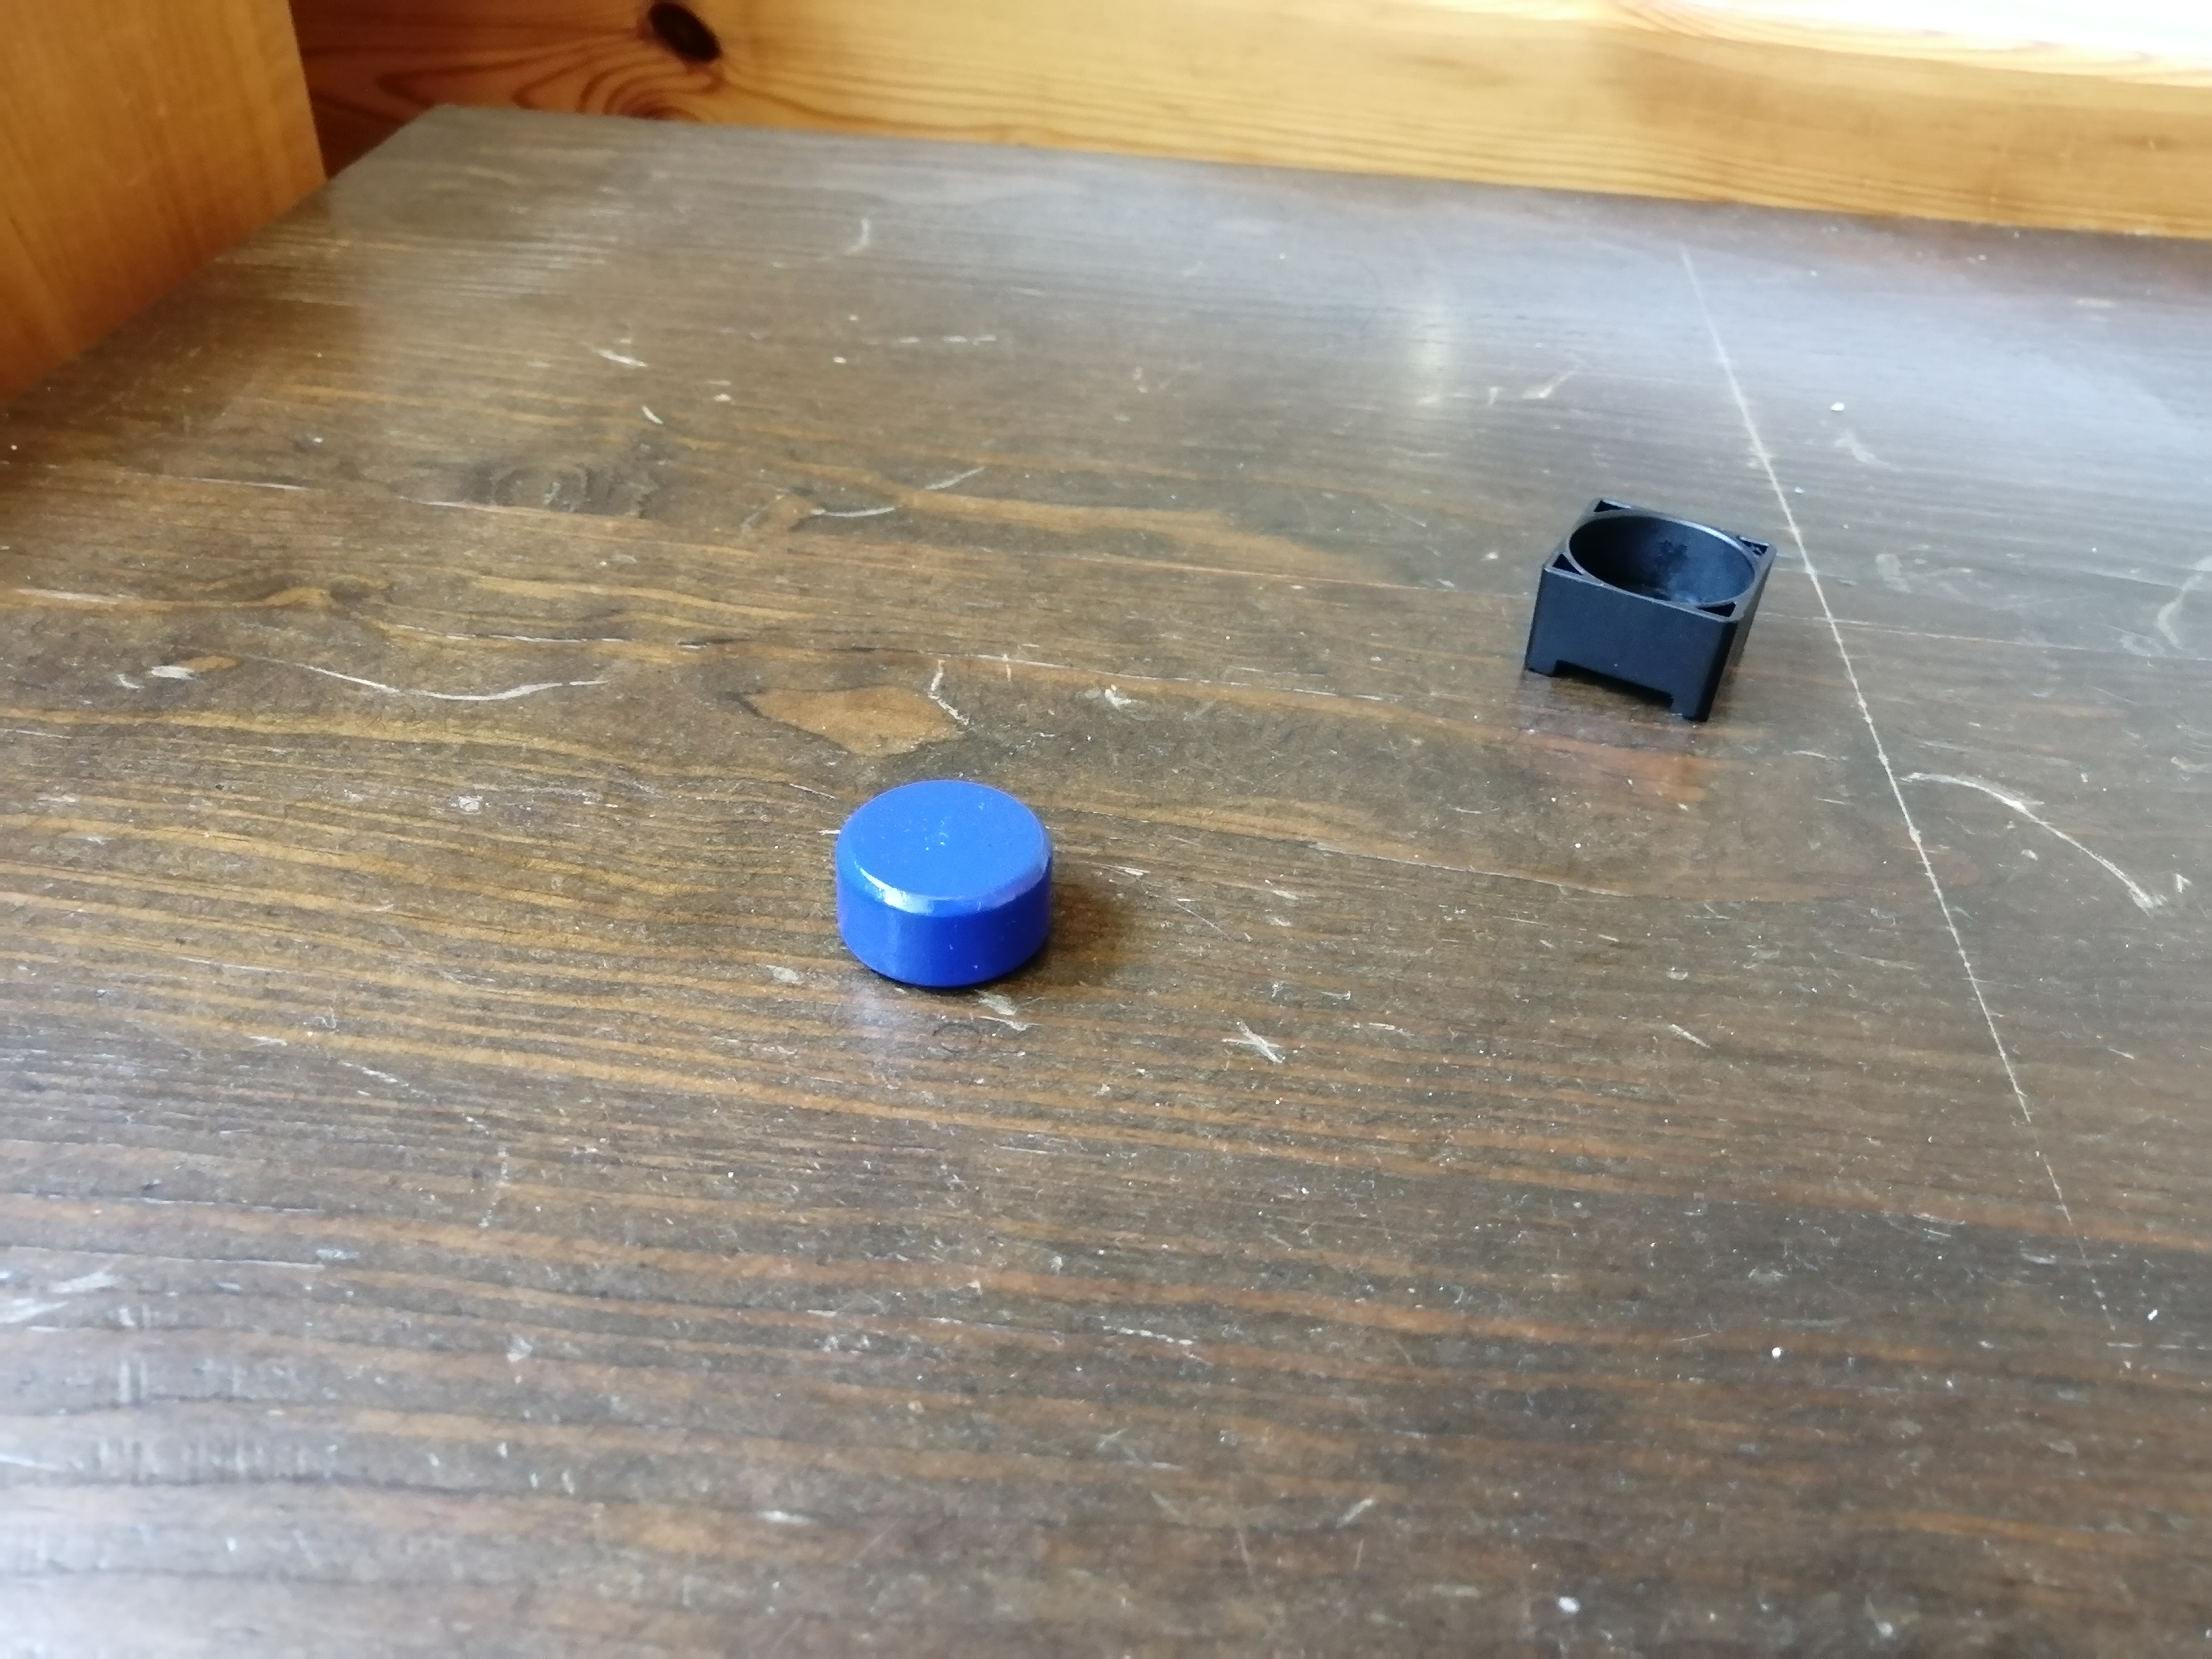Behaelter: (1522, 497, 1771, 716)
WerkStueck: (833, 767, 1047, 979)
